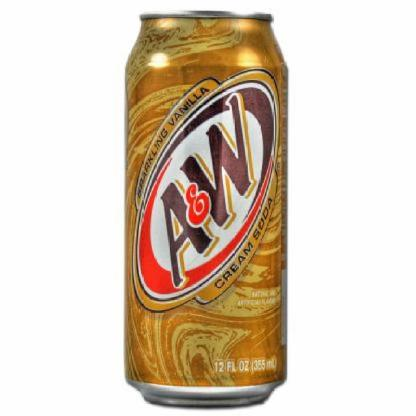Can: (116, 3, 302, 411)
